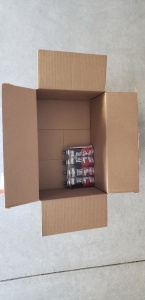innerbox: (35, 86, 108, 197)
outerbox: (4, 49, 140, 230)
product: (62, 146, 95, 185)
